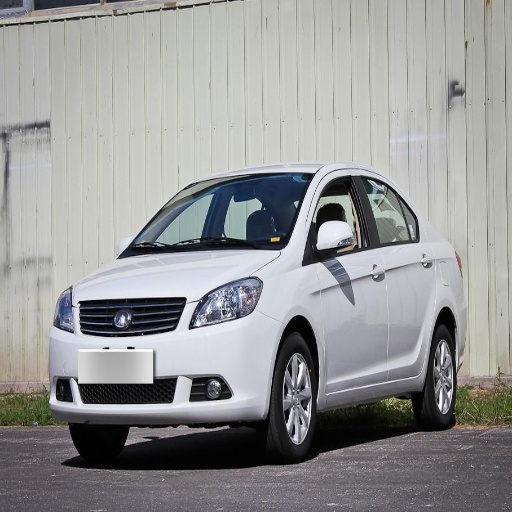front_bumper: (50, 290, 284, 428)
front_glass: (120, 174, 312, 256)
front_left_door: (305, 171, 388, 389)
